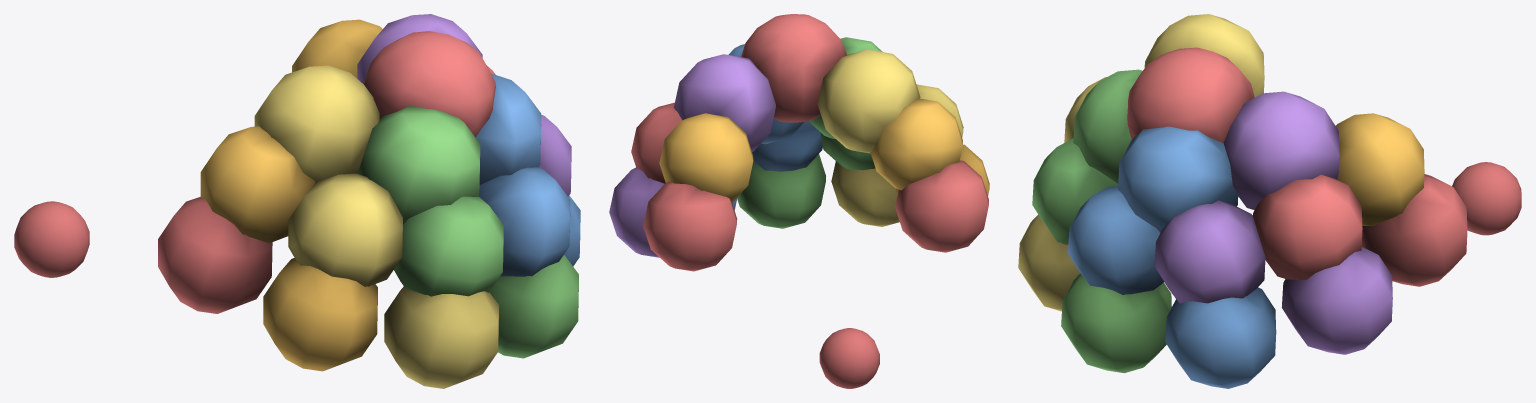
The model's file is clown_head.fbx.
3 renders of one model, left to right at view 1: azimuth 30°, elevation 25°; view 2: azimuth 150°, elevation 25°; view 3: azimuth 270°, elevation 25°, orthographic. The views are drawn at different scales.
Parts seen in each view (by area): view 1: clown_head; view 2: clown_head; view 3: clown_head.
Boxes of the visible parts, box(x1,y1,x2,y2) form: clown_head: box(14, 14, 580, 388); clown_head: box(609, 14, 989, 388); clown_head: box(1018, 14, 1521, 388).
Size of the model in its own units: 1.63 by 1.12 by 1.77.
